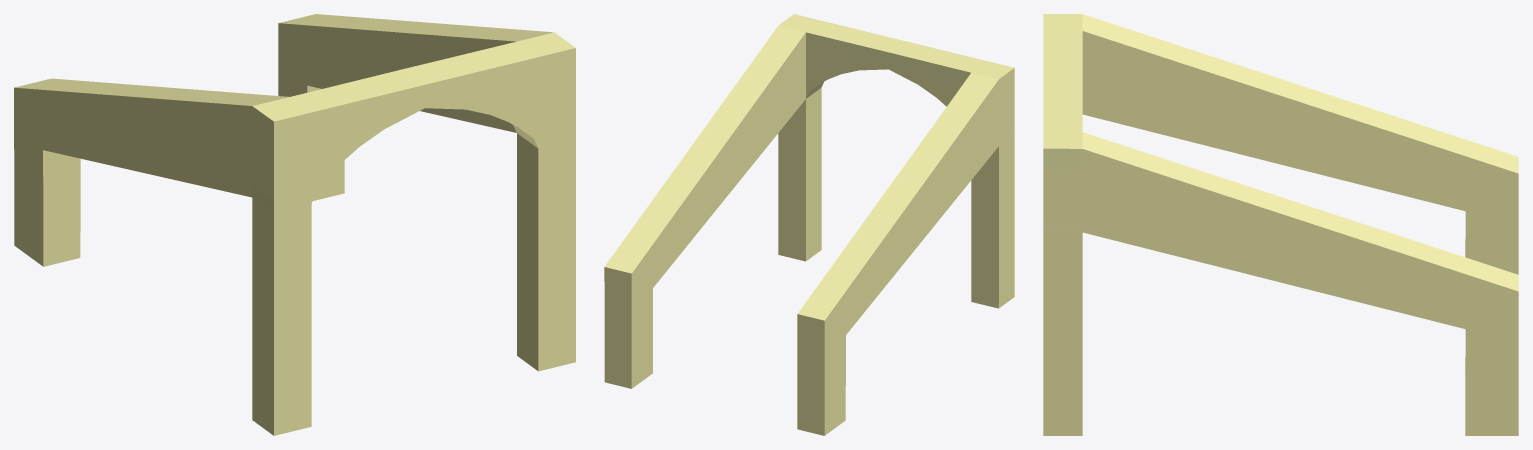
The model's file is arch.glb.
3 views of the same model, side by side, from view 1: azimuth 30°, elevation 25°; view 2: azimuth 150°, elevation 25°; view 3: azimuth 270°, elevation 25° (orthographic). The views are drawn at different scales.
Visible parts, largest first — view 1: Cube; view 2: Cube; view 3: Cube.
Part boxes in pixels (box(x1,y1,x2,y2)): Cube: box(14, 14, 575, 435); Cube: box(604, 14, 1014, 435); Cube: box(1043, 14, 1518, 435).
Bounding box in the file's own units: 6.04 × 6 × 9.
Materials: 1 (1 with a texture image).
